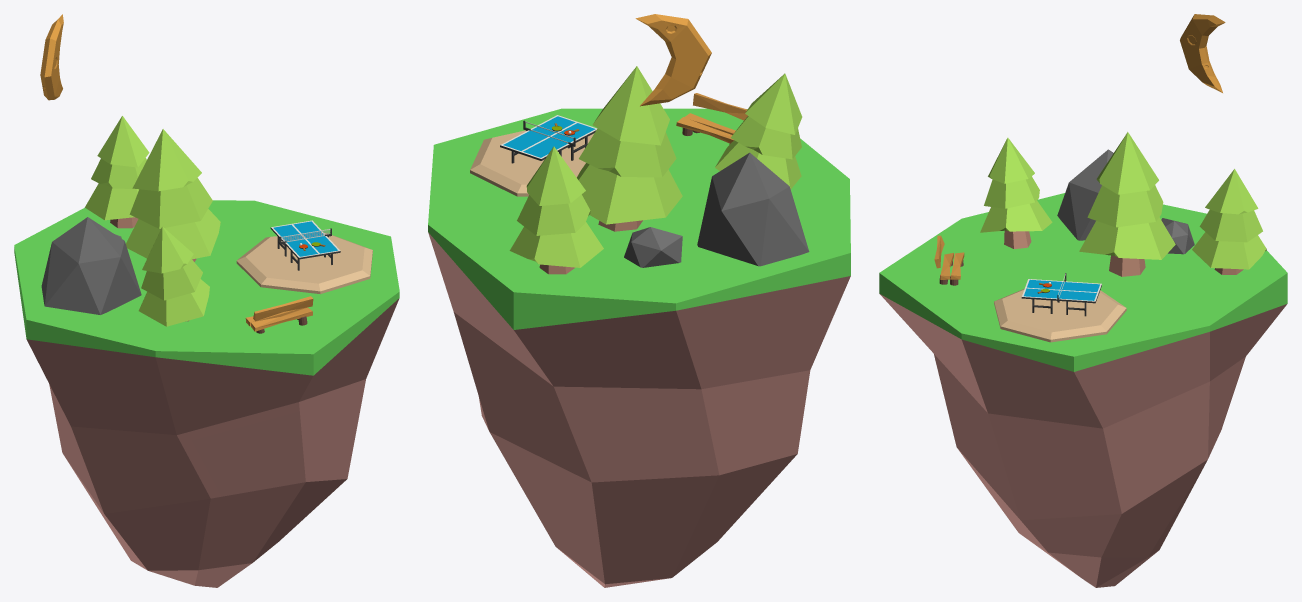
File: island_dark.glb
The picture shows the model from 3 angles, left to right: view 1: azimuth 30°, elevation 25°; view 2: azimuth 150°, elevation 25°; view 3: azimuth 270°, elevation 25°; orthographic projection. The views are drawn at different scales.
Visible parts, largest first — view 1: Island01_Cylinder, Tree_Cylinder.001, Large_Rock_Icosphere.001, StonePlatform_Cylinder, Tree_Cylinder.002, Tree_Cylinder, Box125, Moon_Circle.009, group2086105856, group447724109; view 2: Island01_Cylinder, Tree_Cylinder.001, Large_Rock_Icosphere.001, Tree_Cylinder, Tree_Cylinder.002, Moon_Circle.009, StonePlatform_Cylinder, Box125, Small_Rock_Icosphere, group2086105856; view 3: Island01_Cylinder, Tree_Cylinder.001, Tree_Cylinder, StonePlatform_Cylinder, Tree_Cylinder.002, Large_Rock_Icosphere.001, Moon_Circle.009, Box125, Small_Rock_Icosphere.
Boxes of the visible parts, bbox=[...] form: Island01_Cylinder: bbox=[14, 200, 399, 587]; Tree_Cylinder.001: bbox=[126, 129, 220, 261]; Large_Rock_Icosphere.001: bbox=[41, 217, 141, 314]; StonePlatform_Cylinder: bbox=[236, 233, 372, 294]; Tree_Cylinder.002: bbox=[138, 226, 209, 326]; Tree_Cylinder: bbox=[85, 116, 149, 228]; Box125: bbox=[270, 220, 340, 259]; Moon_Circle.009: bbox=[40, 14, 63, 100]; group2086105856: bbox=[253, 296, 313, 321]; group447724109: bbox=[251, 307, 312, 331]; Island01_Cylinder: bbox=[428, 108, 850, 587]; Tree_Cylinder.001: bbox=[577, 66, 682, 231]; Large_Rock_Icosphere.001: bbox=[697, 152, 809, 266]; Tree_Cylinder: bbox=[509, 146, 603, 274]; Tree_Cylinder.002: bbox=[715, 73, 802, 189]; Moon_Circle.009: bbox=[635, 14, 711, 106]; StonePlatform_Cylinder: bbox=[470, 130, 593, 196]; Box125: bbox=[500, 115, 597, 160]; Small_Rock_Icosphere: bbox=[624, 227, 682, 267]; group2086105856: bbox=[693, 93, 747, 120]; Island01_Cylinder: bbox=[879, 193, 1287, 587]; Tree_Cylinder.001: bbox=[1079, 132, 1175, 276]; Tree_Cylinder: bbox=[1192, 169, 1266, 274]; StonePlatform_Cylinder: bbox=[994, 289, 1126, 342]; Tree_Cylinder.002: bbox=[980, 137, 1052, 249]; Large_Rock_Icosphere.001: bbox=[1057, 149, 1113, 240]; Moon_Circle.009: bbox=[1180, 14, 1225, 92]; Box125: bbox=[1021, 279, 1101, 303]; Small_Rock_Icosphere: bbox=[1161, 218, 1194, 254].
Bounding box in the file's own units: 0.8871 × 1.29 × 0.9085.
